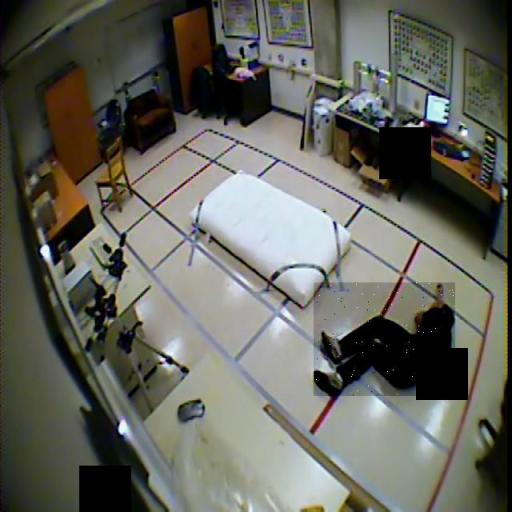Fall: (314, 282, 455, 396)
